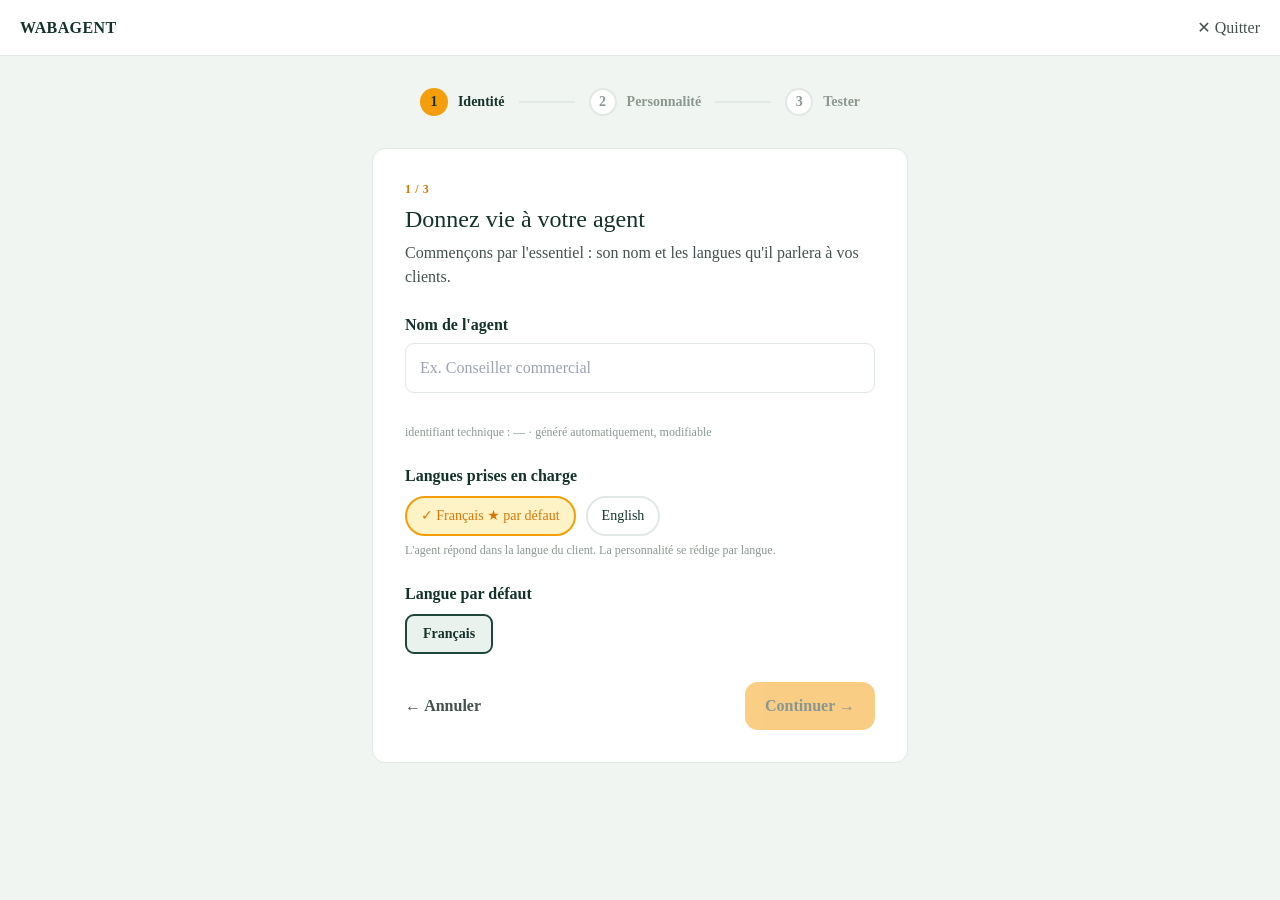
Scenario: Continuer passe a l'etape Personnalite
Type "Ventes" into the field labelled "Nom de l'agent" at (640, 368), box x1=405 y1=343 x2=875 y2=393
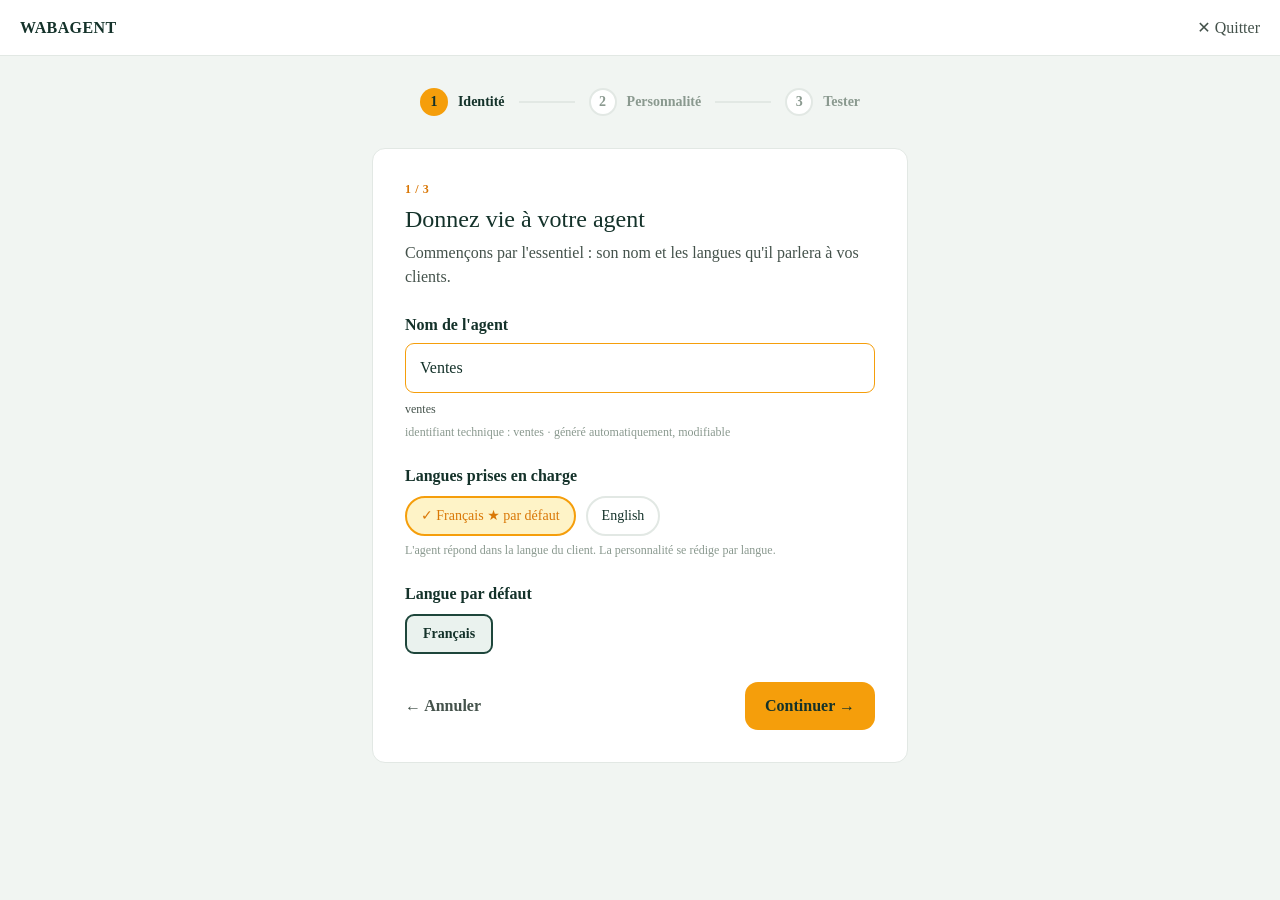
Click the button "Continuer →" at (810, 706), box x1=745 y1=682 x2=875 y2=730
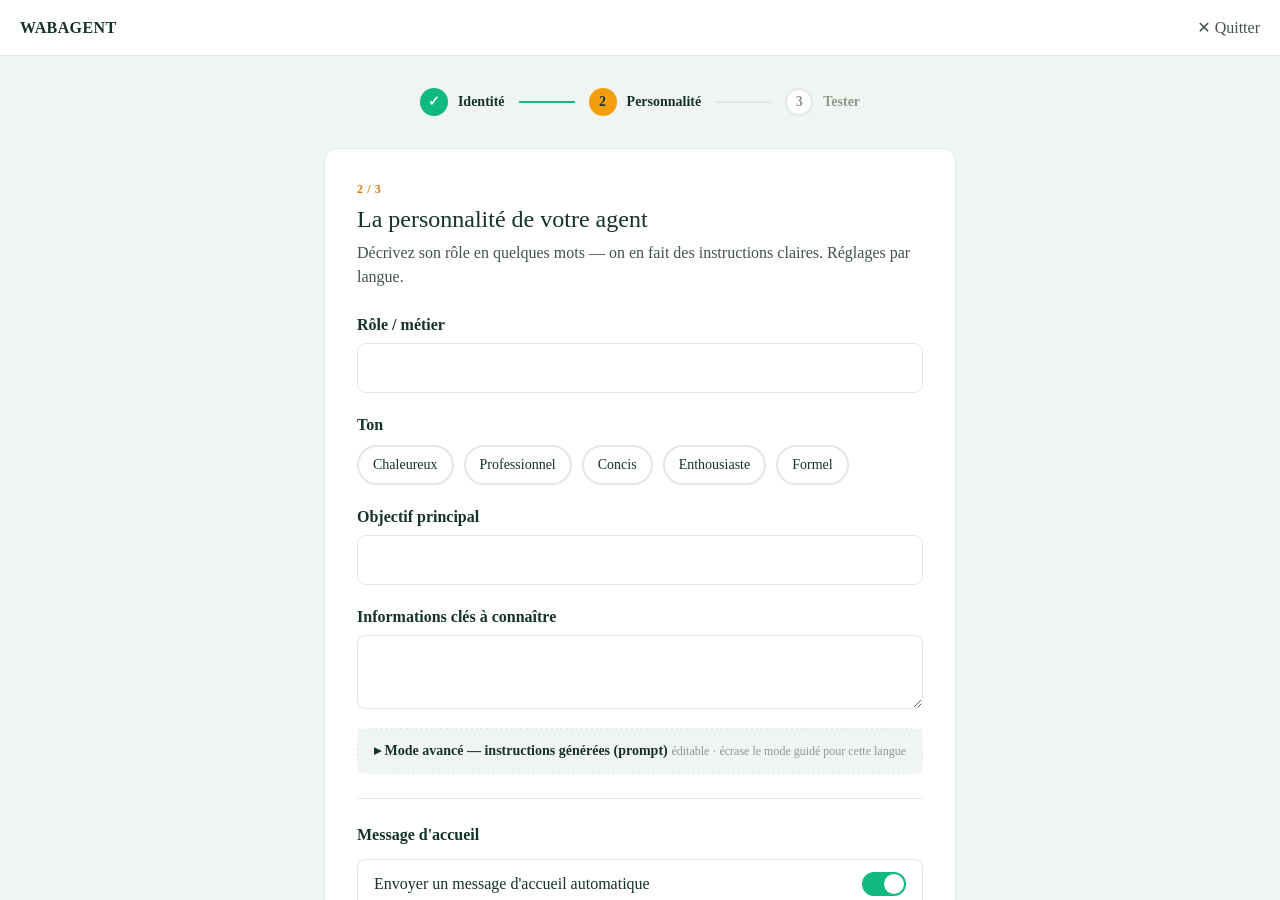
Now the heading "La personnalité de votre agent" is shown, box x1=357 y1=206 x2=648 y2=232
